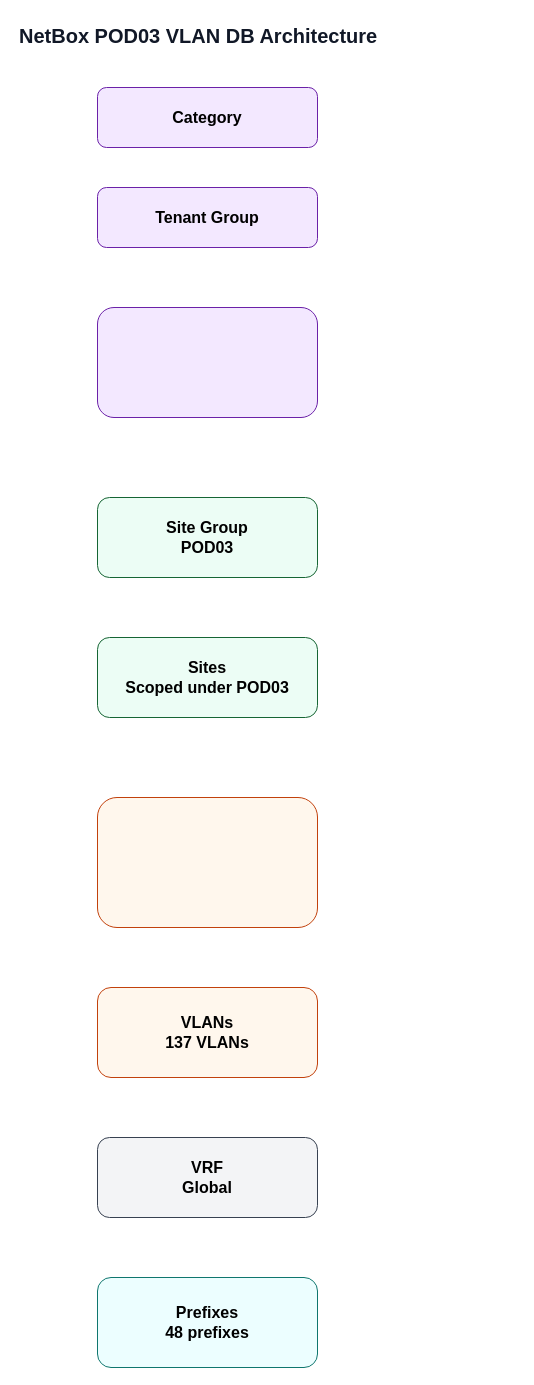
The diagram is 534 pixels wide and 1385 high, and some of its shapes have lost their labels. The shapes that lost their labels are listed below. From the top down, each one's box as (x1, y1, x2, y2) in pixels, then its label:
(96, 306, 318, 418): Tenants Customer Solutions
(96, 796, 318, 928): VLAN Groups 17 groups
